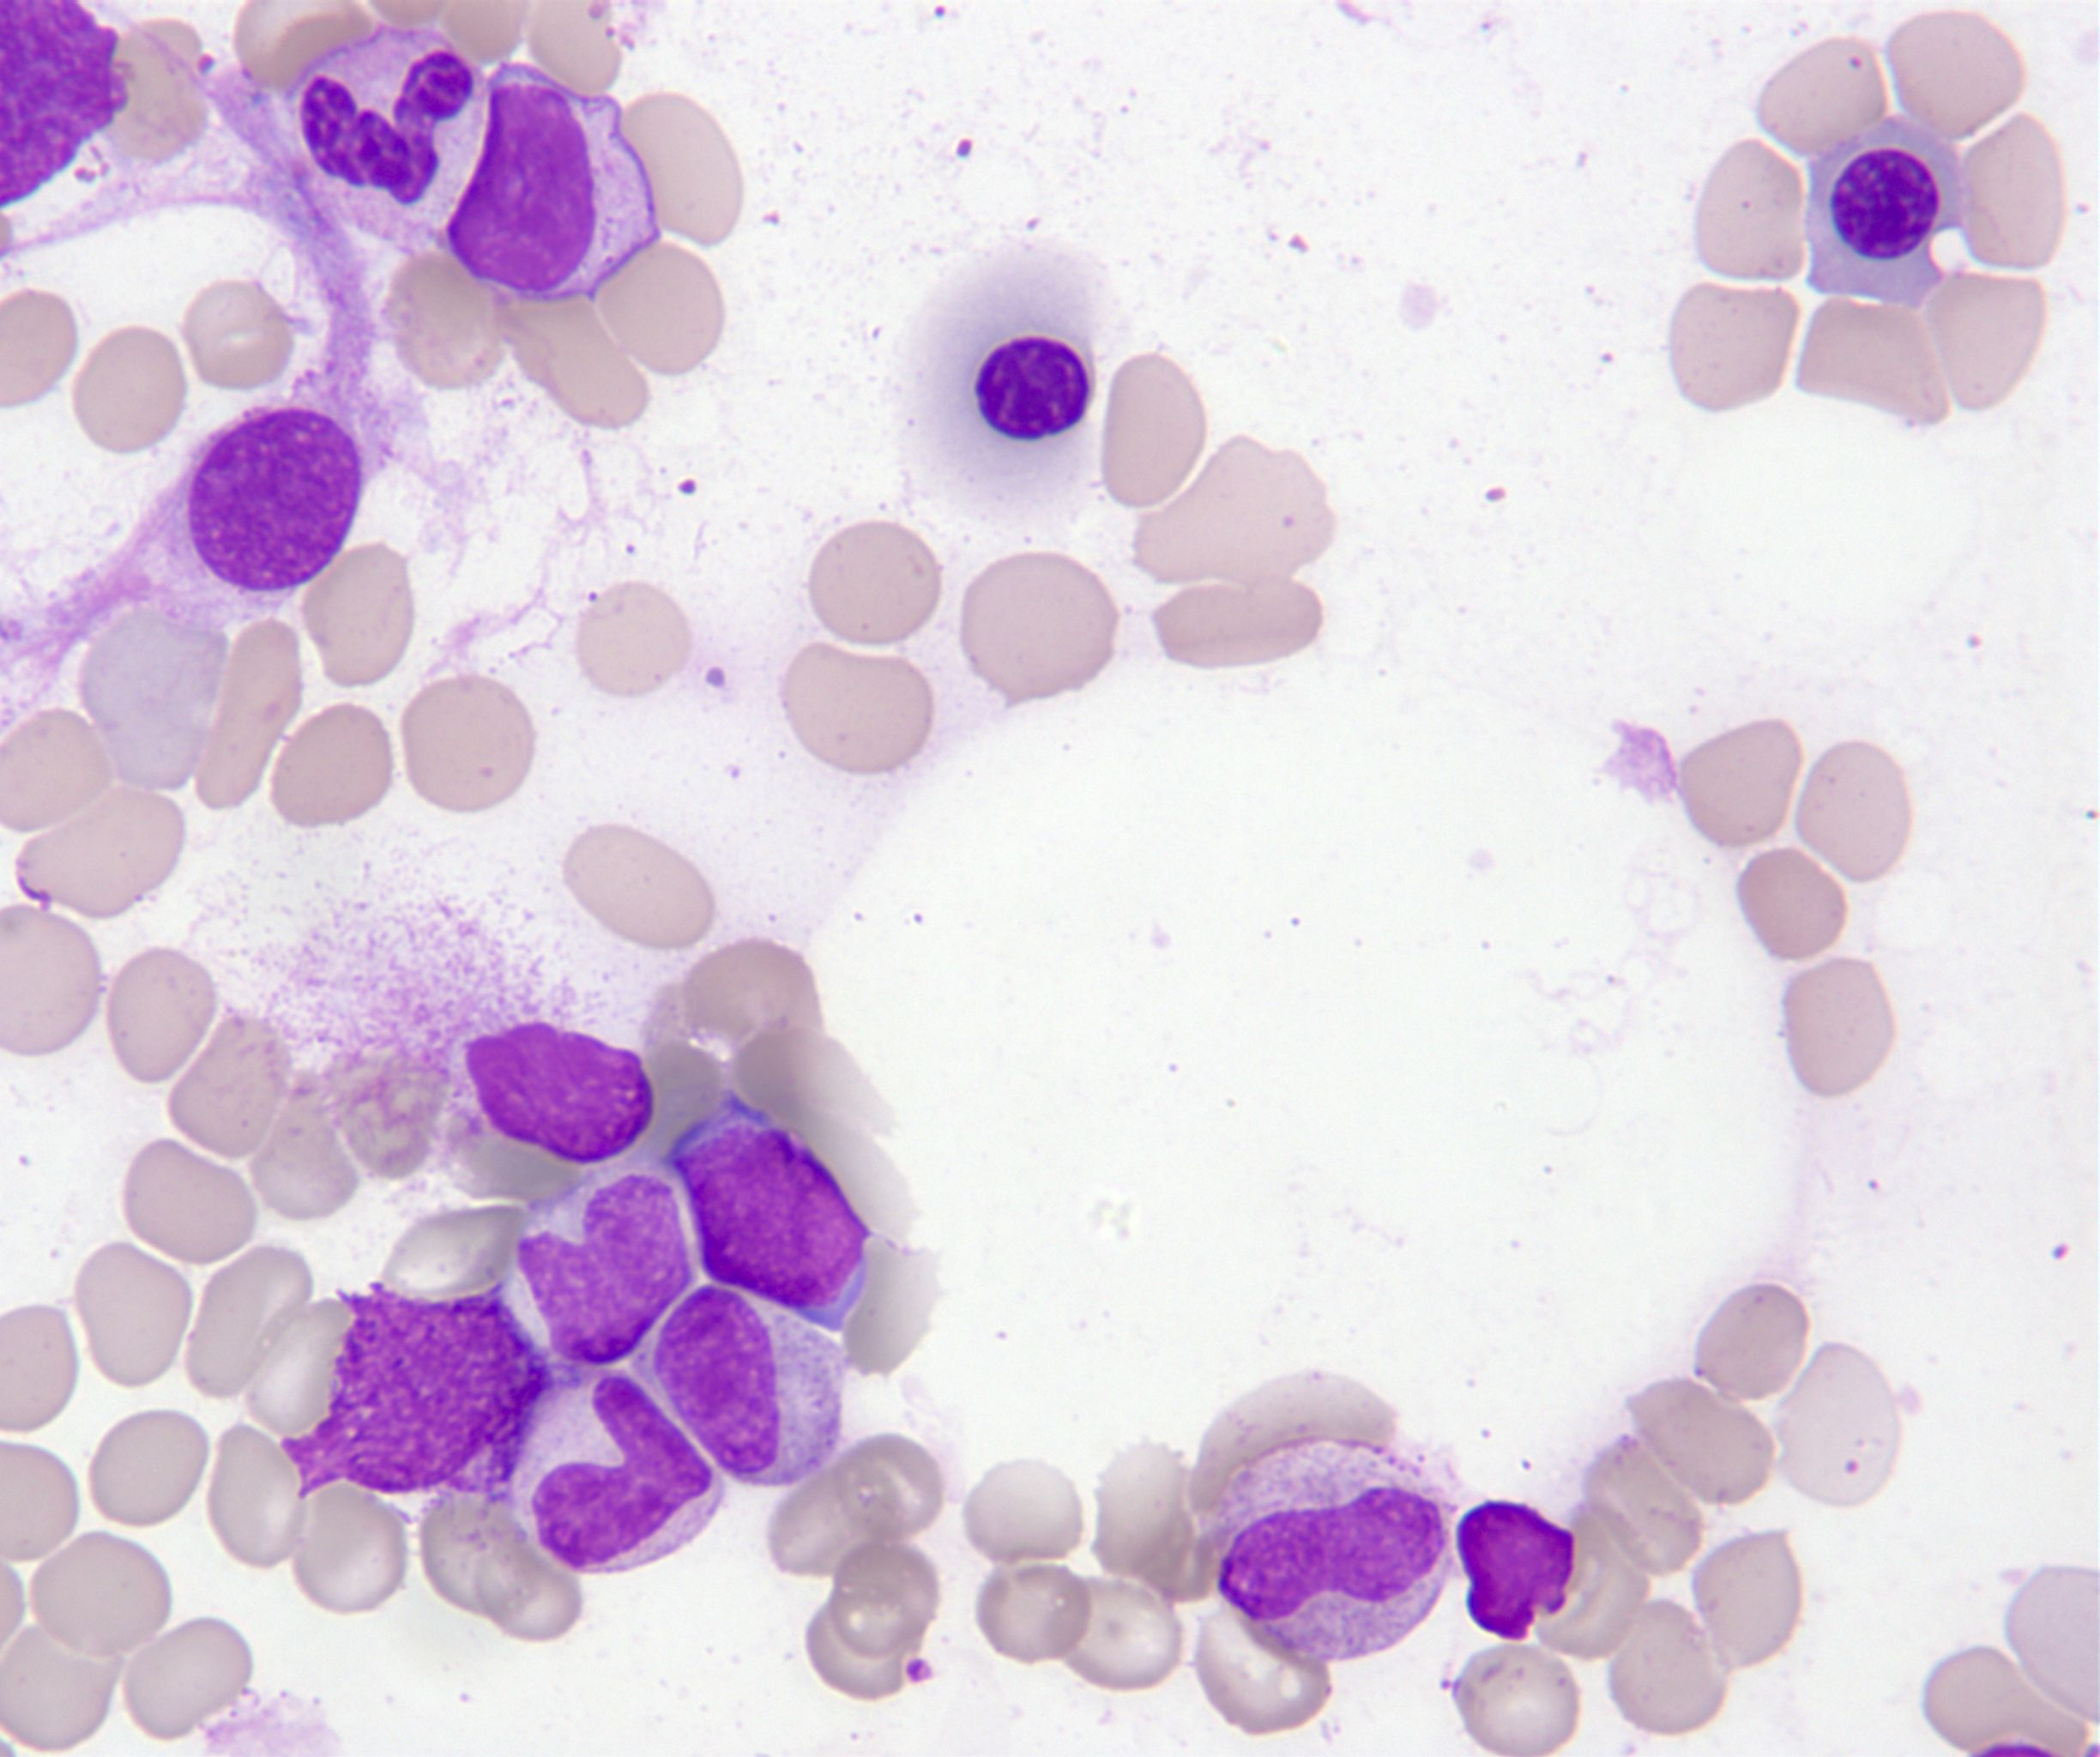1: (661, 1099, 881, 1337)
24: (1793, 110, 1974, 311), (945, 309, 1104, 454)
3: (638, 1277, 853, 1492), (506, 1157, 701, 1377)
32: (440, 56, 665, 311)
4: (1195, 1431, 1455, 1668), (501, 1366, 734, 1581)
6: (281, 23, 492, 260)
x: (174, 403, 370, 607)
